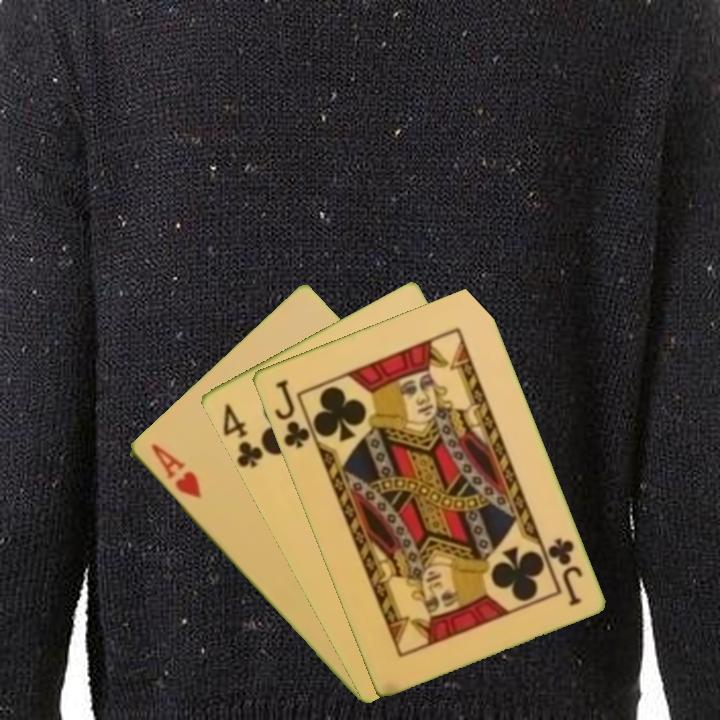4c: (218, 399, 266, 471)
Ah: (146, 440, 205, 502)
Jc: (270, 375, 313, 451), (543, 534, 585, 609)
